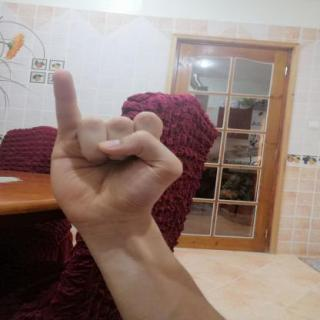MEEM: (28, 61, 197, 237)
